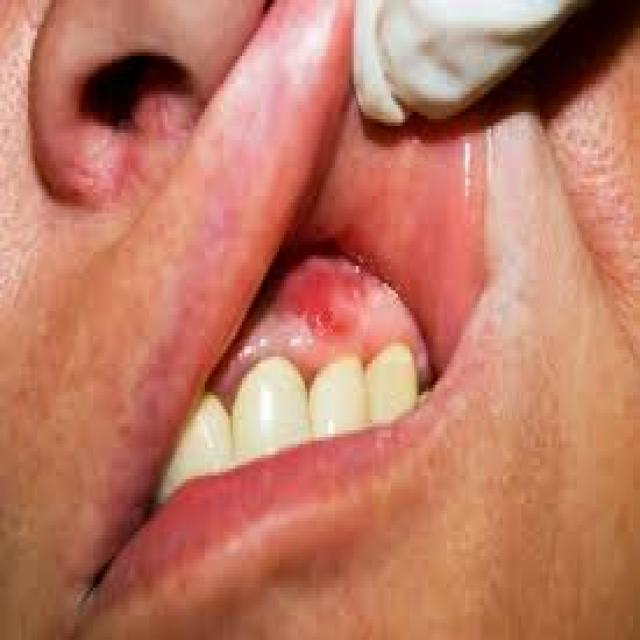abscess: (283, 258, 378, 350)
